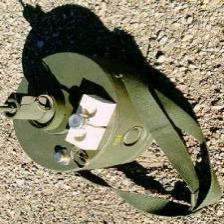M21: (1, 50, 167, 179)
